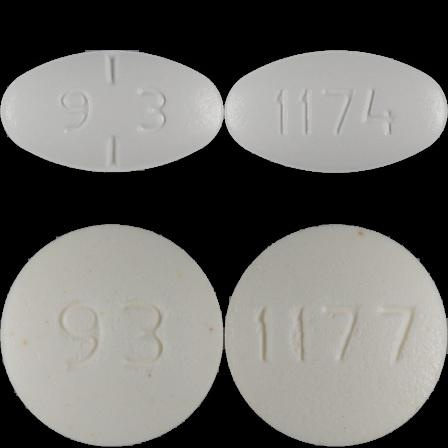0093-1174: (0, 0, 224, 224)
